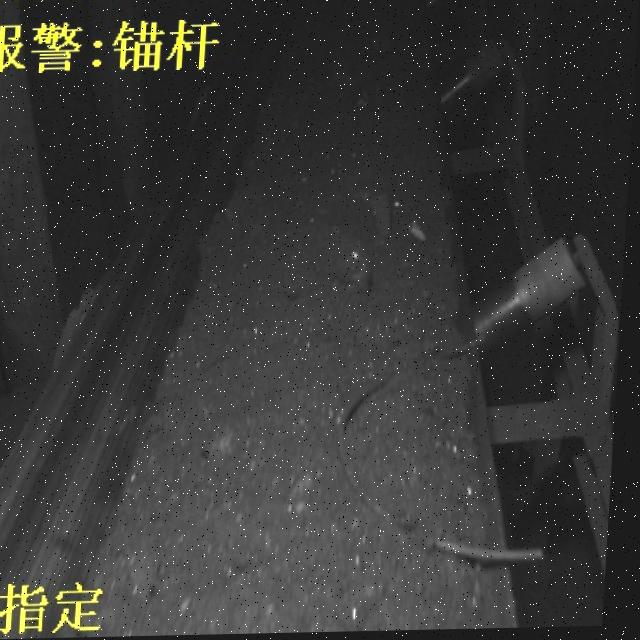bolt: (333, 338, 562, 572)
large_sized_coal: (308, 231, 383, 289)
